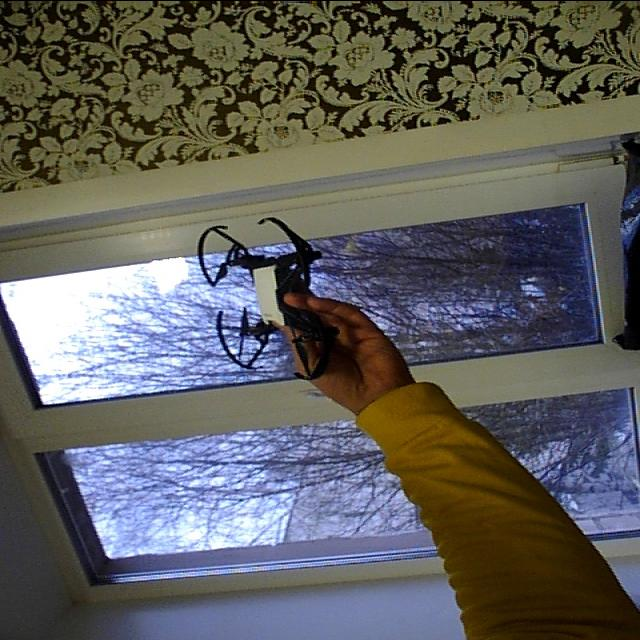drone: (193, 210, 349, 380)
